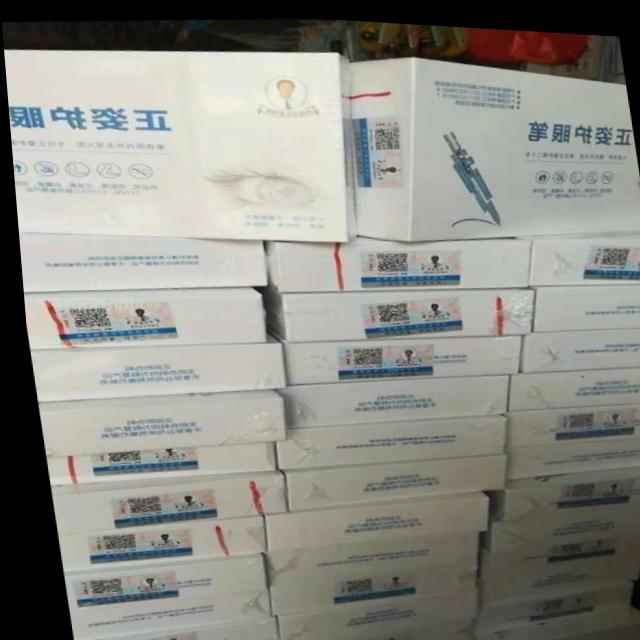box: (3, 50, 343, 239), (339, 52, 640, 237), (30, 383, 281, 457), (24, 338, 282, 400), (42, 467, 277, 534), (19, 283, 261, 348), (264, 229, 526, 289), (259, 280, 529, 336), (15, 234, 267, 291), (268, 407, 501, 468), (257, 547, 472, 613), (256, 485, 479, 547), (276, 327, 521, 382), (257, 524, 477, 585), (277, 447, 498, 507), (53, 549, 255, 613), (48, 513, 258, 573), (271, 370, 505, 423), (267, 582, 468, 640), (60, 585, 263, 640), (38, 439, 270, 485), (460, 571, 627, 630), (490, 458, 640, 515), (476, 499, 640, 546), (459, 597, 638, 640), (470, 549, 632, 596), (473, 526, 640, 569), (515, 224, 640, 279), (500, 358, 640, 405), (497, 428, 640, 474), (502, 394, 640, 439), (513, 319, 640, 366), (528, 278, 640, 325), (71, 614, 267, 640), (293, 611, 463, 640)
